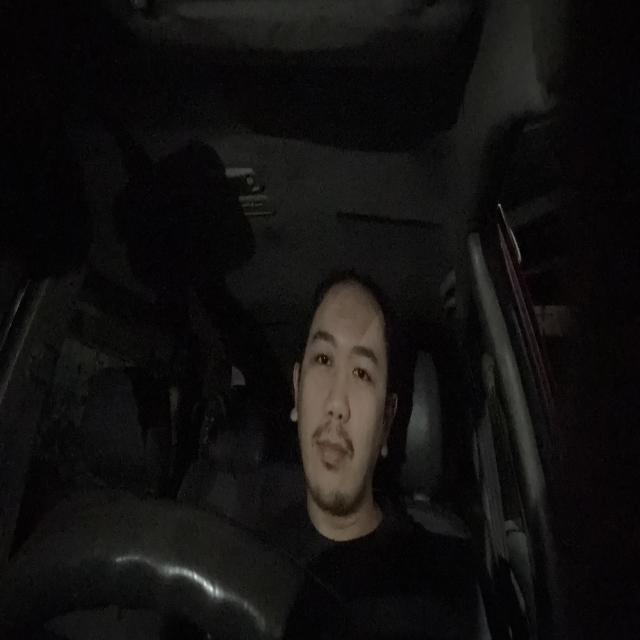open: (347, 344, 380, 391), (312, 326, 335, 371)
